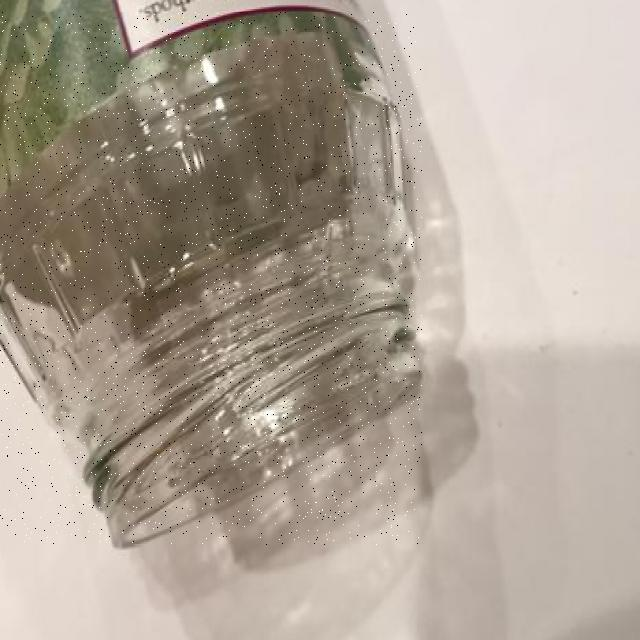glass: (0, 13, 422, 545)
